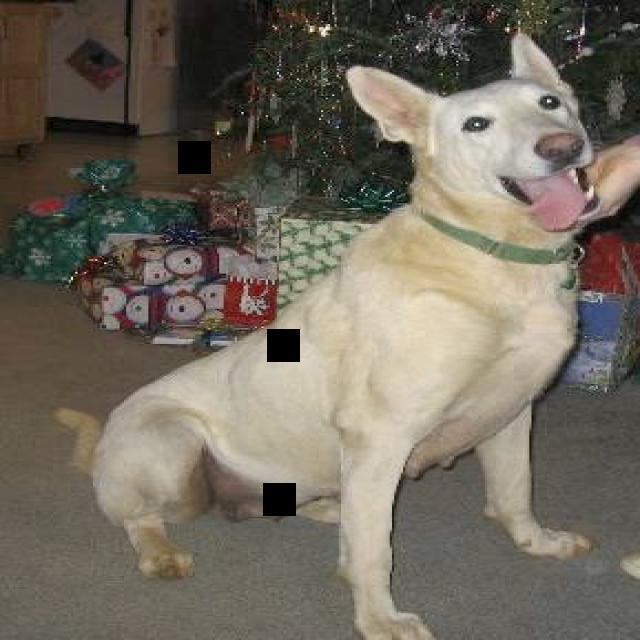adult_dog: (44, 26, 605, 639)
